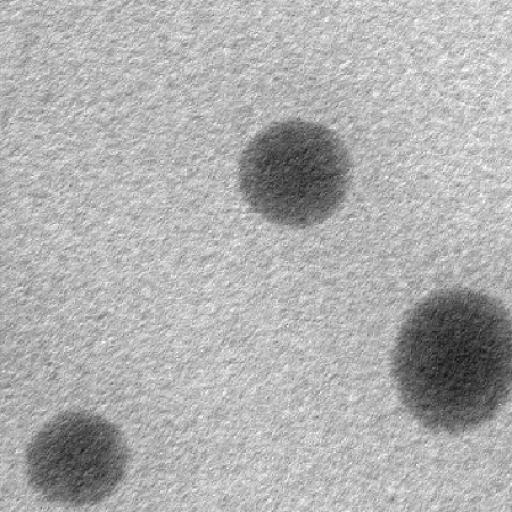Nanoparticles: (391, 286, 511, 432), (237, 118, 354, 226), (22, 408, 130, 506)
